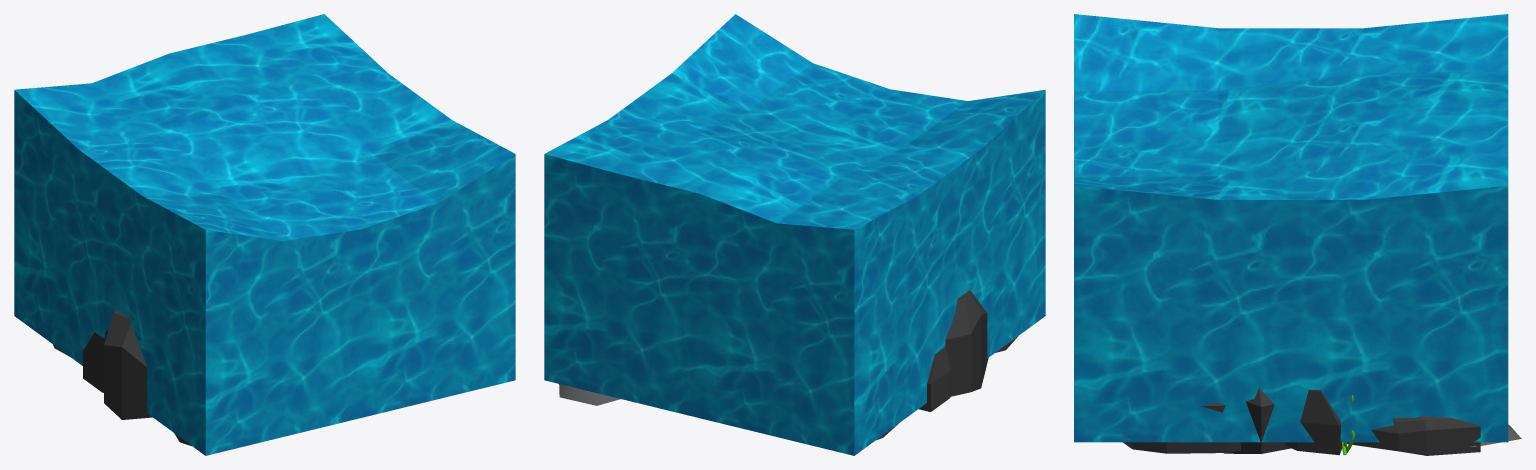
3 views of the same model, side by side, from view 1: azimuth 30°, elevation 25°; view 2: azimuth 150°, elevation 25°; view 3: azimuth 270°, elevation 25° (orthographic). The views are drawn at different scales.
Visible parts, largest first — view 1: Object_5, Object_4, Object_16; view 2: Object_5, Object_4, Object_16, Object_13; view 3: Object_5, Object_4, Object_16.
Part boxes in pixels (x1,y1,x2,y2): Object_5: [14, 90, 515, 455]; Object_4: [14, 14, 515, 240]; Object_16: [53, 310, 191, 445]; Object_5: [544, 90, 1045, 455]; Object_4: [544, 14, 1045, 229]; Object_16: [876, 290, 1017, 440]; Object_13: [559, 384, 620, 405]; Object_5: [1074, 185, 1508, 442]; Object_4: [1074, 14, 1508, 199]; Object_16: [1123, 388, 1480, 455].
Bounding box in the file's own units: 19.66 × 13.97 × 20.29.
1 material, 1 textured.
